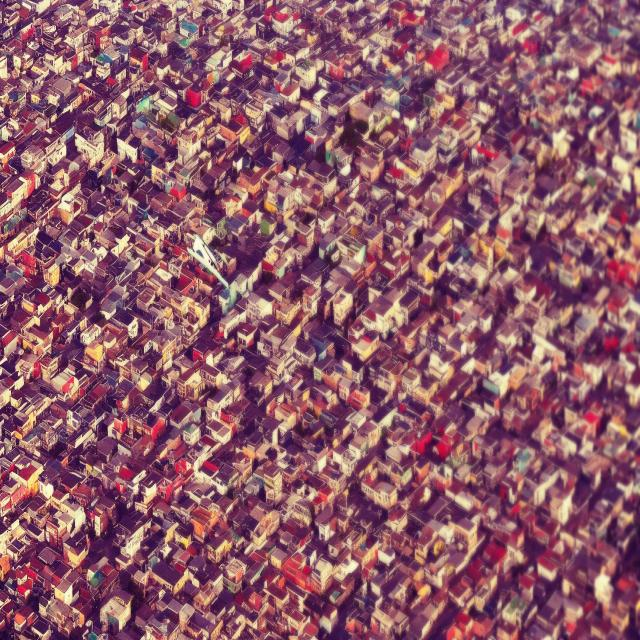airplane: (187, 232, 230, 290)
